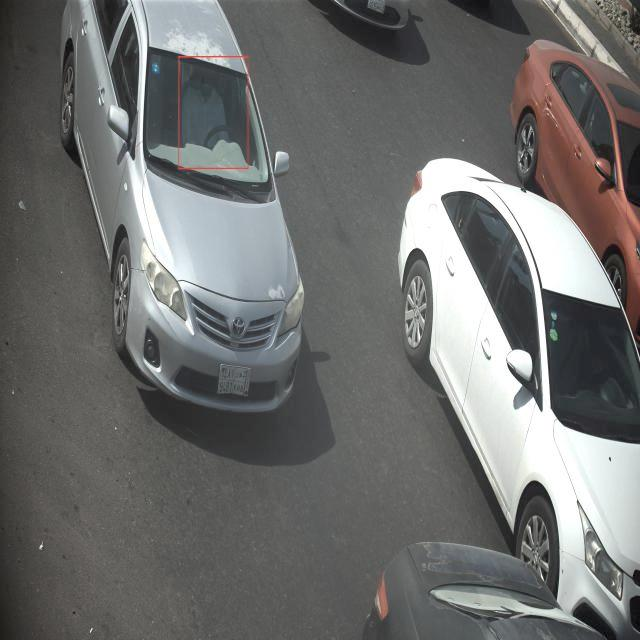person_without_seatbelt: (173, 62, 246, 176)
